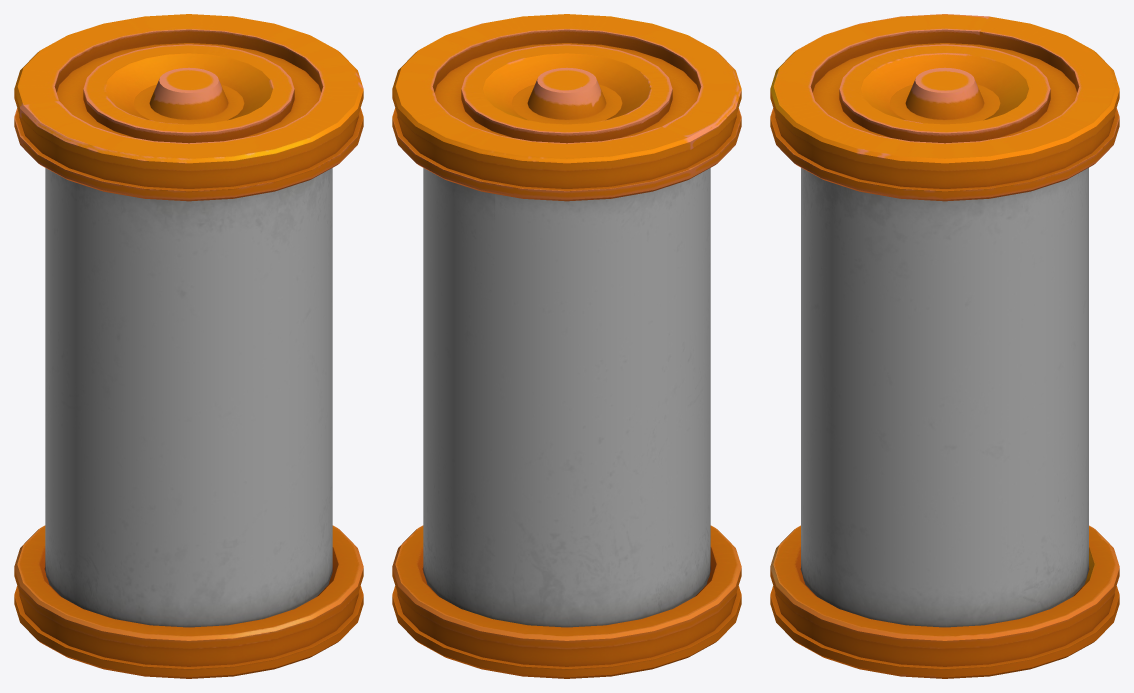
The model's file is powercell.fbx.
The picture shows the model from 3 angles, left to right: view 1: azimuth 30°, elevation 25°; view 2: azimuth 150°, elevation 25°; view 3: azimuth 270°, elevation 25°; orthographic projection.
Parts seen in each view (by area): view 1: Glass, Metal; view 2: Glass, Metal; view 3: Glass, Metal.
Part boxes in pixels (left/top/right/bottom): Glass: left=45, top=168, right=332, bottom=627; Metal: left=14, top=14, right=363, bottom=678; Glass: left=423, top=168, right=710, bottom=627; Metal: left=392, top=14, right=741, bottom=678; Glass: left=801, top=168, right=1088, bottom=627; Metal: left=770, top=14, right=1119, bottom=678.
Size of the model in its own units: 1835 by 3046 by 1835.
3 materials, 3 textured.
